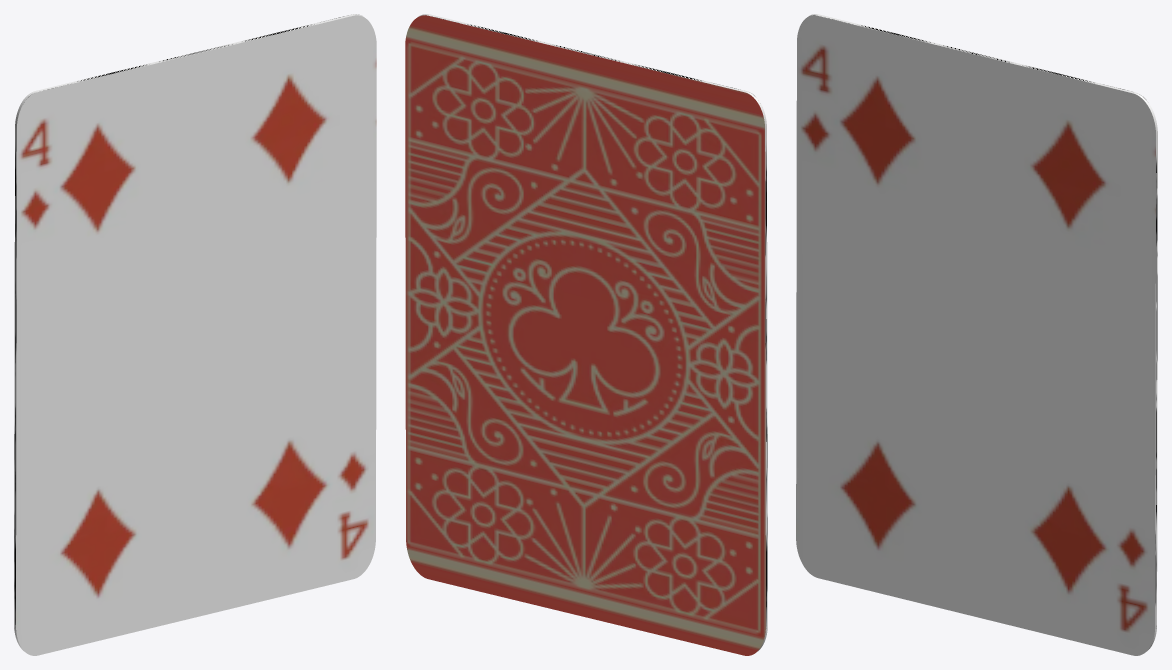
The model's file is 4diamantes.glb.
The picture shows the model from 3 angles, left to right: view 1: azimuth 30°, elevation 25°; view 2: azimuth 150°, elevation 25°; view 3: azimuth 330°, elevation 25°; orthographic projection.
Parts seen in each view (by area): view 1: Cubo.043; view 2: Cubo.043; view 3: Cubo.043.
Part boxes in pixels (x1,y1,x2,y2): Cubo.043: (14,14,376,655); Cubo.043: (405,14,767,655); Cubo.043: (796,14,1157,655).
Size of the model in its own units: 7.36 by 11 by 0.065.
3 materials, 3 textured.
